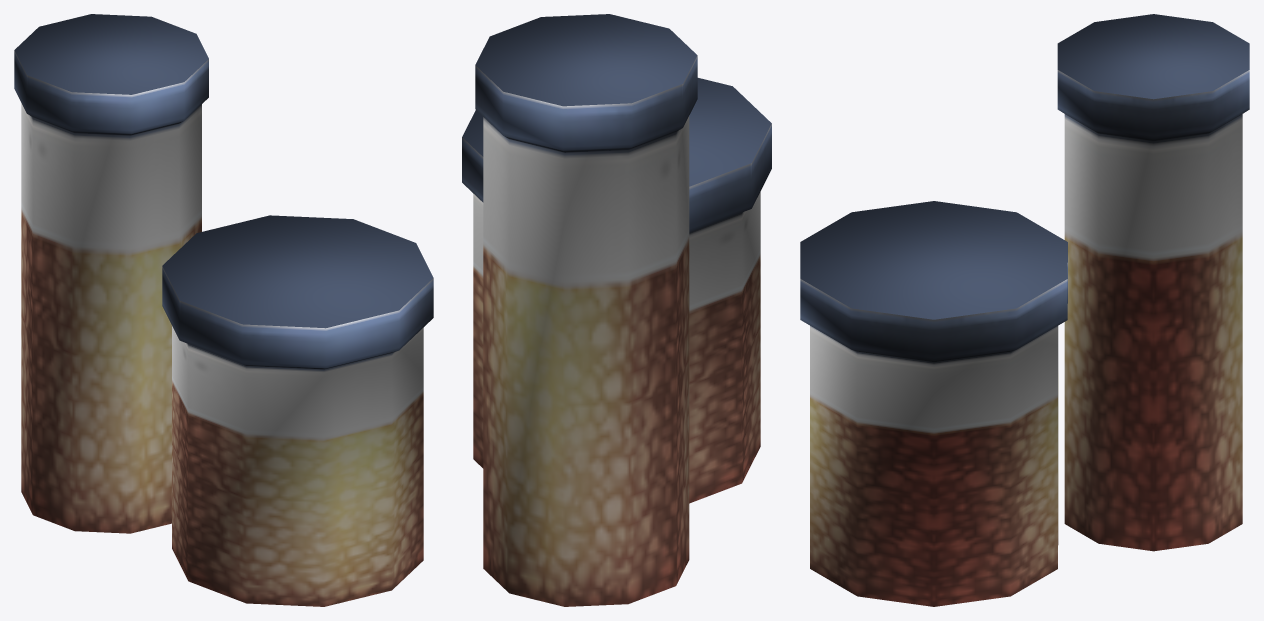
Rendered from G_DanShenHan_pingzi_04.FBX.
3 views of the same model, side by side, from view 1: azimuth 30°, elevation 25°; view 2: azimuth 150°, elevation 25°; view 3: azimuth 270°, elevation 25° (orthographic). The views are drawn at different scales.
Visible parts, largest first — view 1: DanShenHan_pingzi_04; view 2: DanShenHan_pingzi_04; view 3: DanShenHan_pingzi_04.
Part boxes in pixels (box(x1,y1,x2,y2)): DanShenHan_pingzi_04: box(14, 14, 433, 606); DanShenHan_pingzi_04: box(462, 14, 771, 606); DanShenHan_pingzi_04: box(800, 14, 1249, 606).
Size of the model in its own units: 24.14 by 36.05 by 32.25.
